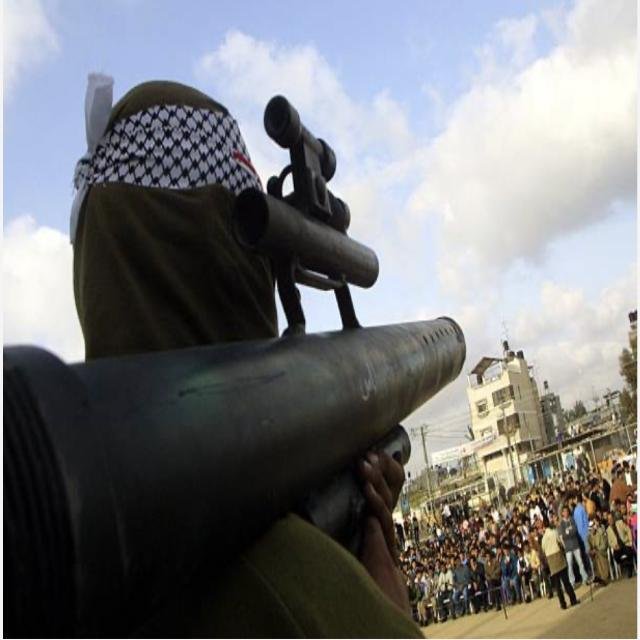bazooka: (12, 299, 483, 623)
